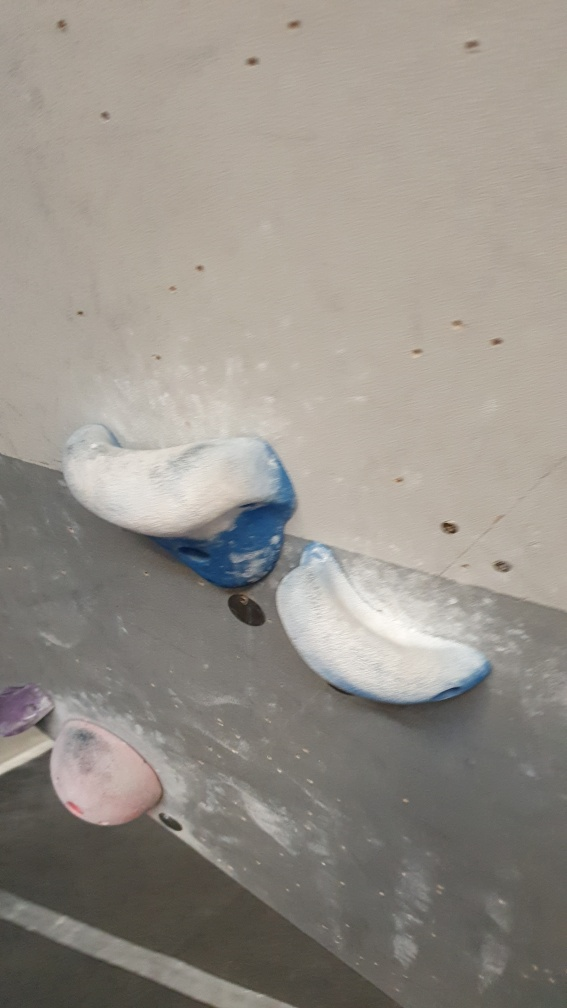Hand Start: (223, 593, 269, 629), (158, 812, 187, 837)
Jug: (58, 418, 303, 595), (276, 549, 487, 704)
Sloper: (45, 717, 168, 828)
